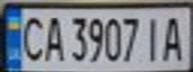0: (103, 14, 124, 63)
3: (66, 12, 87, 63)
7: (121, 14, 142, 63)
9: (84, 14, 106, 63)
A: (160, 12, 190, 63), (39, 11, 66, 63)
C: (15, 12, 48, 63)
I: (139, 12, 166, 63)
